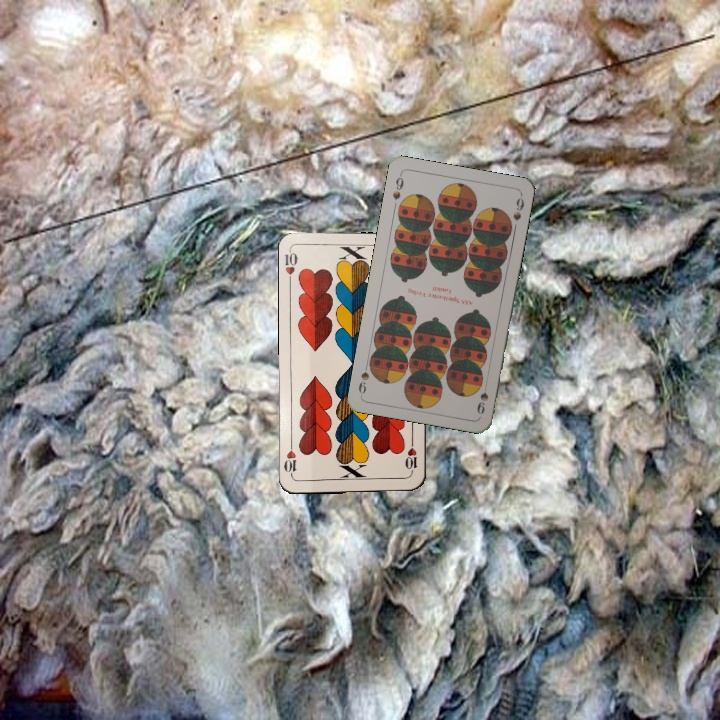H10: (281, 248, 300, 288), (403, 436, 420, 476)
S9: (473, 377, 491, 416), (388, 170, 406, 202)
